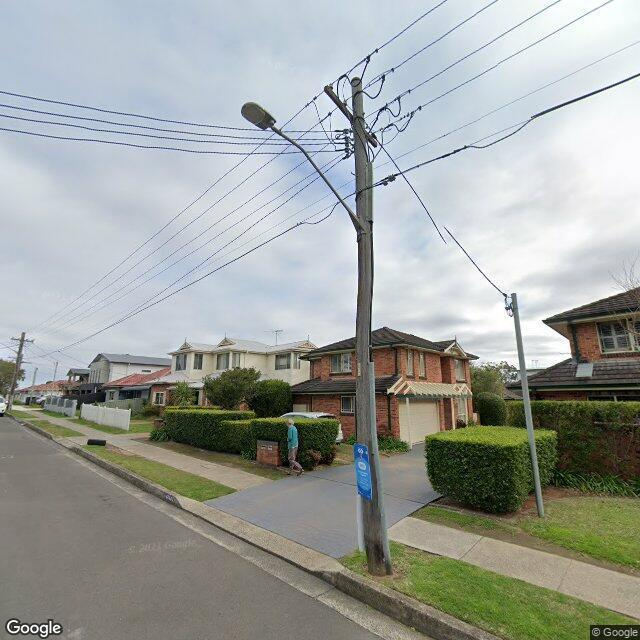crossarm: (324, 84, 380, 148), (11, 337, 34, 343)
steel-pole: (511, 292, 546, 516)
streetlight: (241, 101, 369, 234)
timber-pole: (349, 76, 392, 576), (7, 332, 26, 412)
